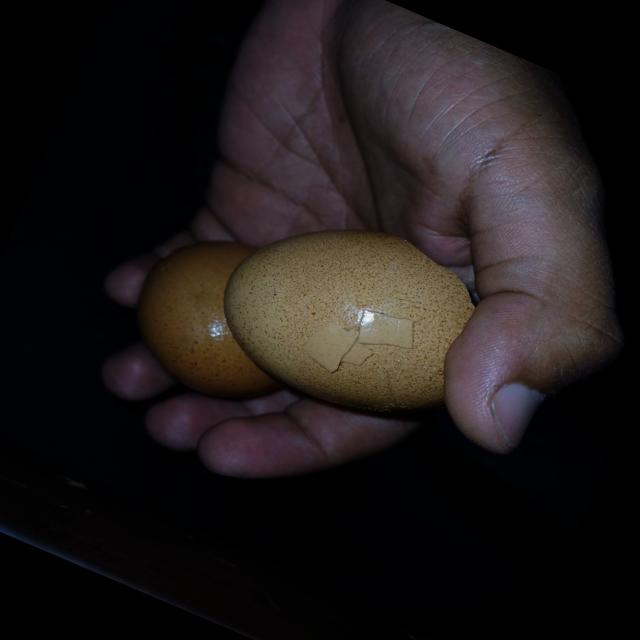organic: (108, 151, 502, 485)
